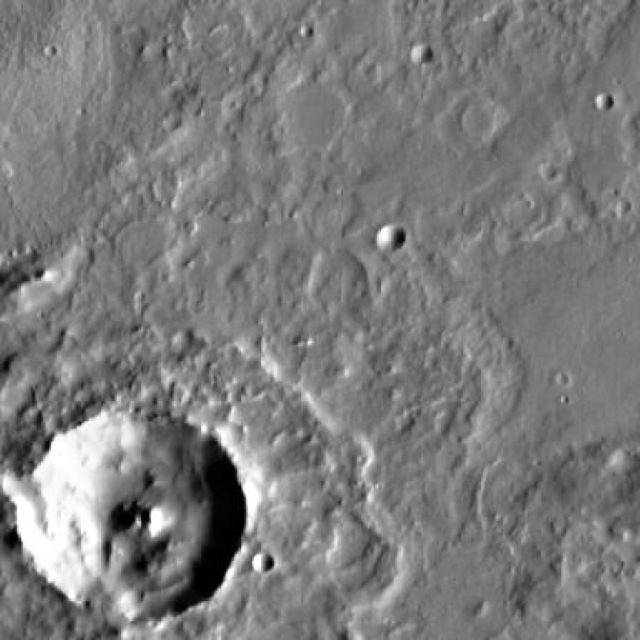crater: (6, 413, 237, 622), (374, 221, 406, 248), (252, 551, 276, 572), (408, 46, 430, 68), (591, 92, 611, 110)
